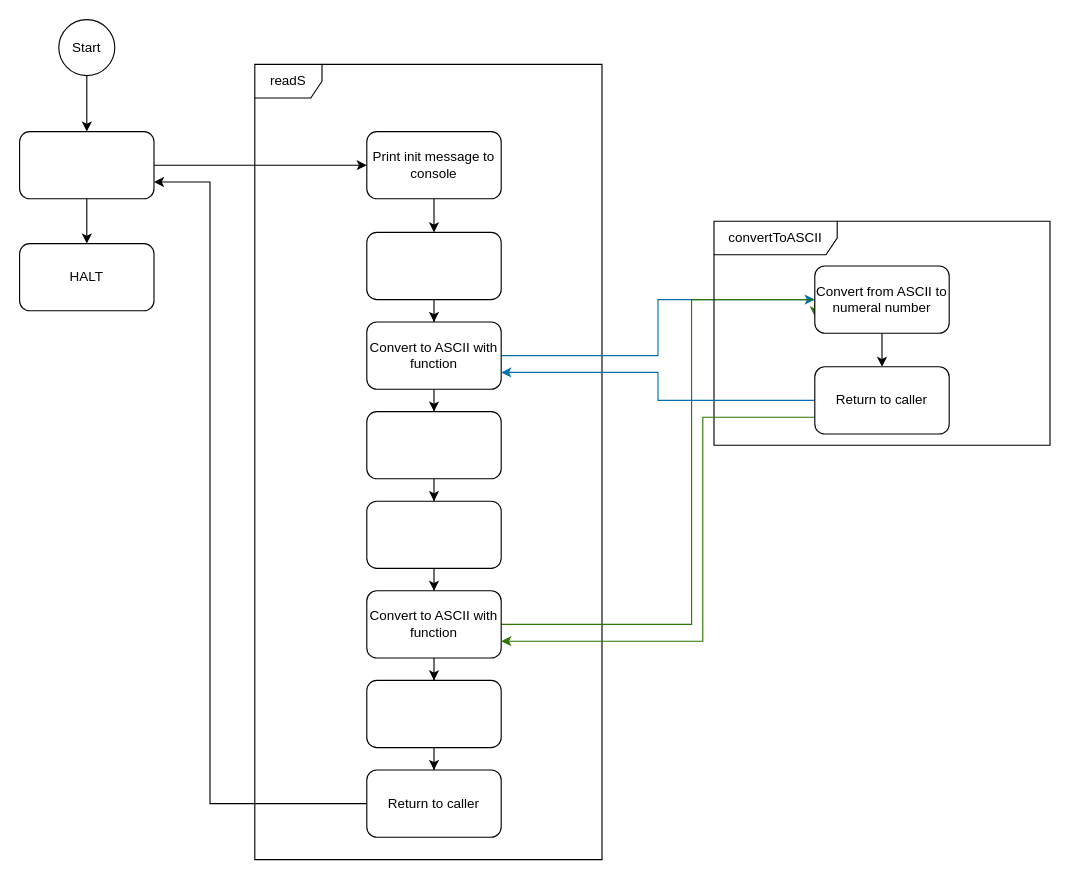
The diagram is 1070 pixels wide and 879 high, and some of its shapes have lost their labels. Here are the shapes that lost their labels. From the top down, the centre of each, then its label:
the point at 86,164: Run readS
the point at 433,265: Read first number from console
the point at 433,444: Times the number by 10 and store in R3
the point at 433,534: Read second number from console
the point at 433,713: Add R3 and R2 into R0 and return to caller
